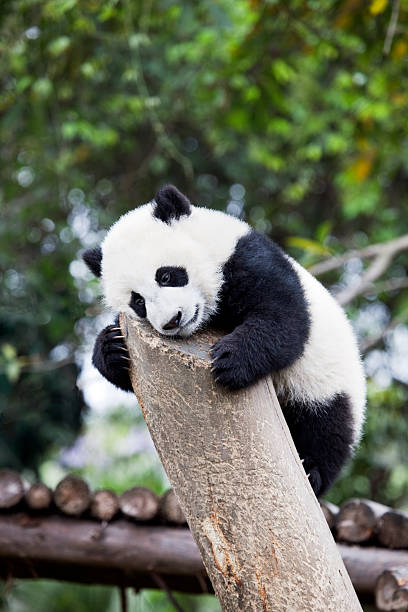panda: (57, 172, 291, 387)
